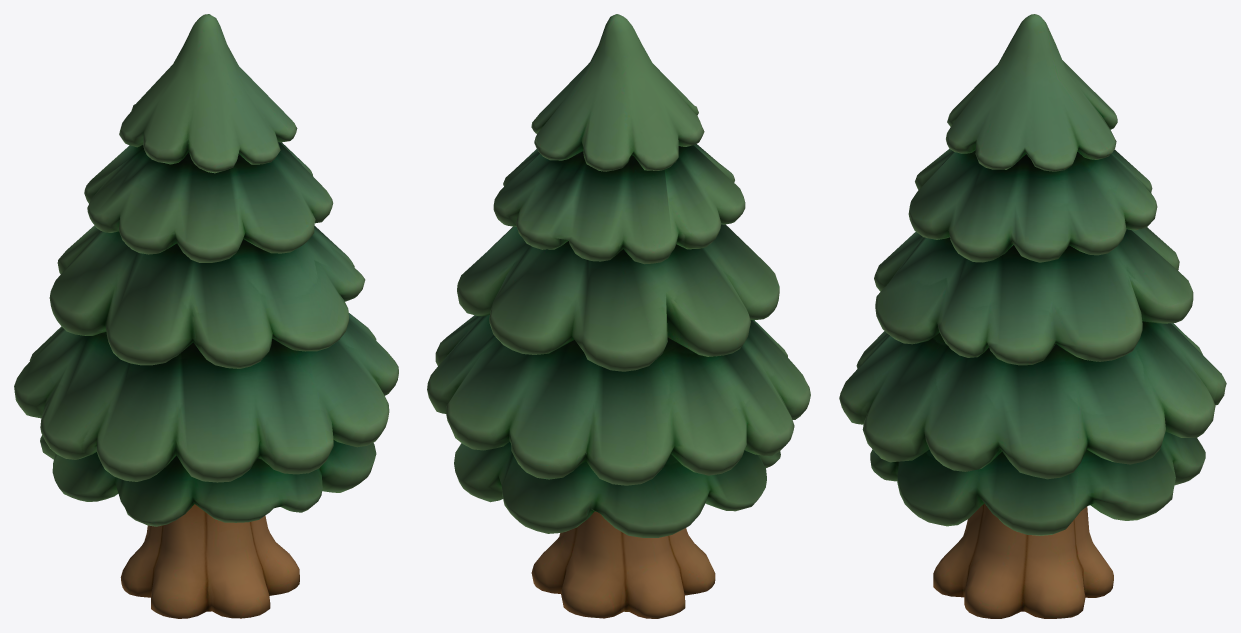
Rendered from cedar-tree.glb.
The picture shows the model from 3 angles, left to right: view 1: azimuth 30°, elevation 25°; view 2: azimuth 150°, elevation 25°; view 3: azimuth 270°, elevation 25°; orthographic projection.
Visible parts, largest first — view 1: Cedar Tree; view 2: Cedar Tree; view 3: Cedar Tree.
Part boxes in pixels (x1,y1,x2,y2): Cedar Tree: (14,14,398,618); Cedar Tree: (427,14,810,618); Cedar Tree: (839,14,1226,618).
Bounding box in the file's own units: 0.6113 × 0.998 × 0.6113.
1 material, 1 textured.
